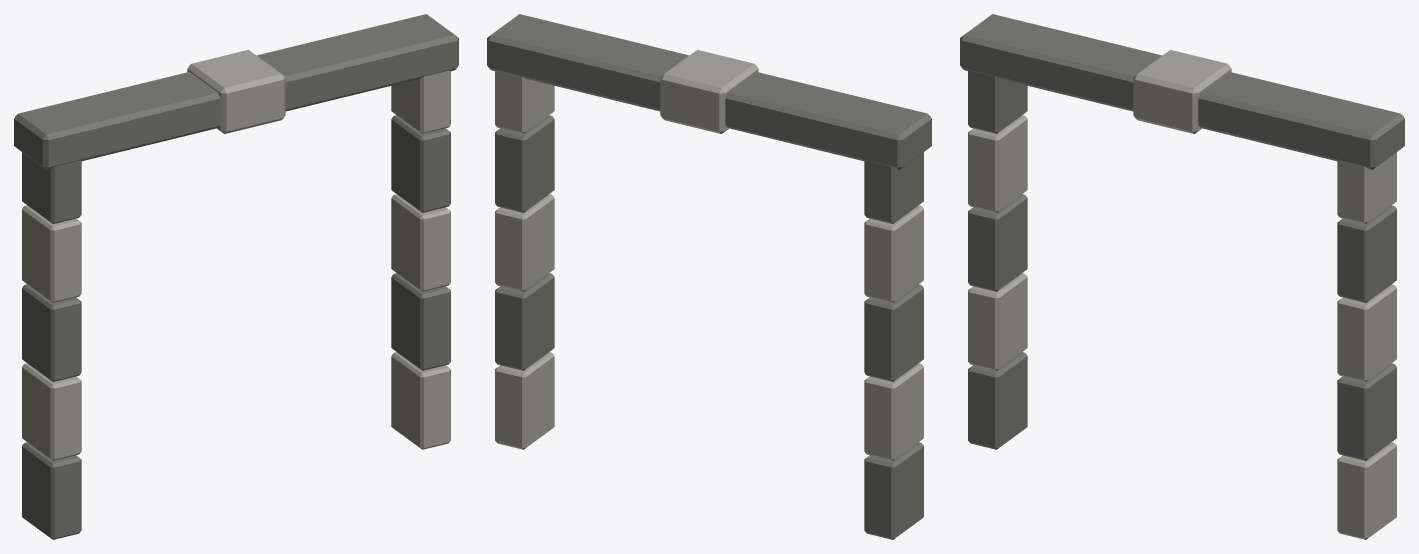
Rendered from door_frame.fbx.
The picture shows the model from 3 angles, left to right: view 1: azimuth 30°, elevation 25°; view 2: azimuth 150°, elevation 25°; view 3: azimuth 330°, elevation 25°; orthographic projection.
Parts seen in each view (by area): view 1: Frame; view 2: Frame; view 3: Frame.
Boxes of the visible parts, x1,y1,x2,y2 form: Frame: (14,14,458,539); Frame: (487,14,931,539); Frame: (960,14,1404,539).
Bounding box in the file's own units: 3.2 × 3.03 × 0.5.
1 material, 1 textured.
